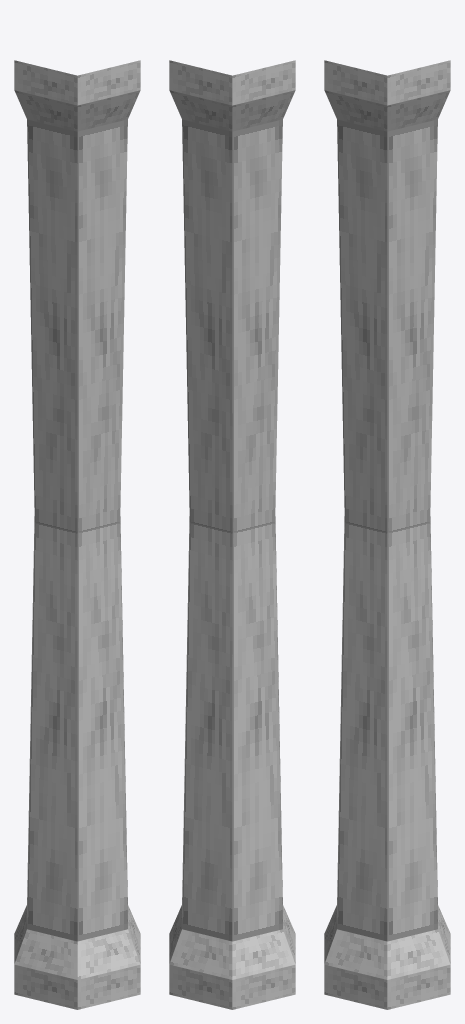
Rendered from Column.glb.
3 views of the same model, side by side, from view 1: azimuth 90°, elevation 25°; view 2: azimuth 150°, elevation 25°; view 3: azimuth 270°, elevation 25° (orthographic).
Parts seen in each view (by area): view 1: ColumnTall1; view 2: ColumnTall1; view 3: ColumnTall1.
Boxes of the visible parts, box(x1,y1,x2,y2) form: ColumnTall1: box(14, 60, 140, 1009); ColumnTall1: box(169, 60, 295, 1009); ColumnTall1: box(324, 60, 450, 1009).
Size of the model in its own units: 0.5658 by 4 by 0.49.
Materials: 1 (1 with a texture image).
